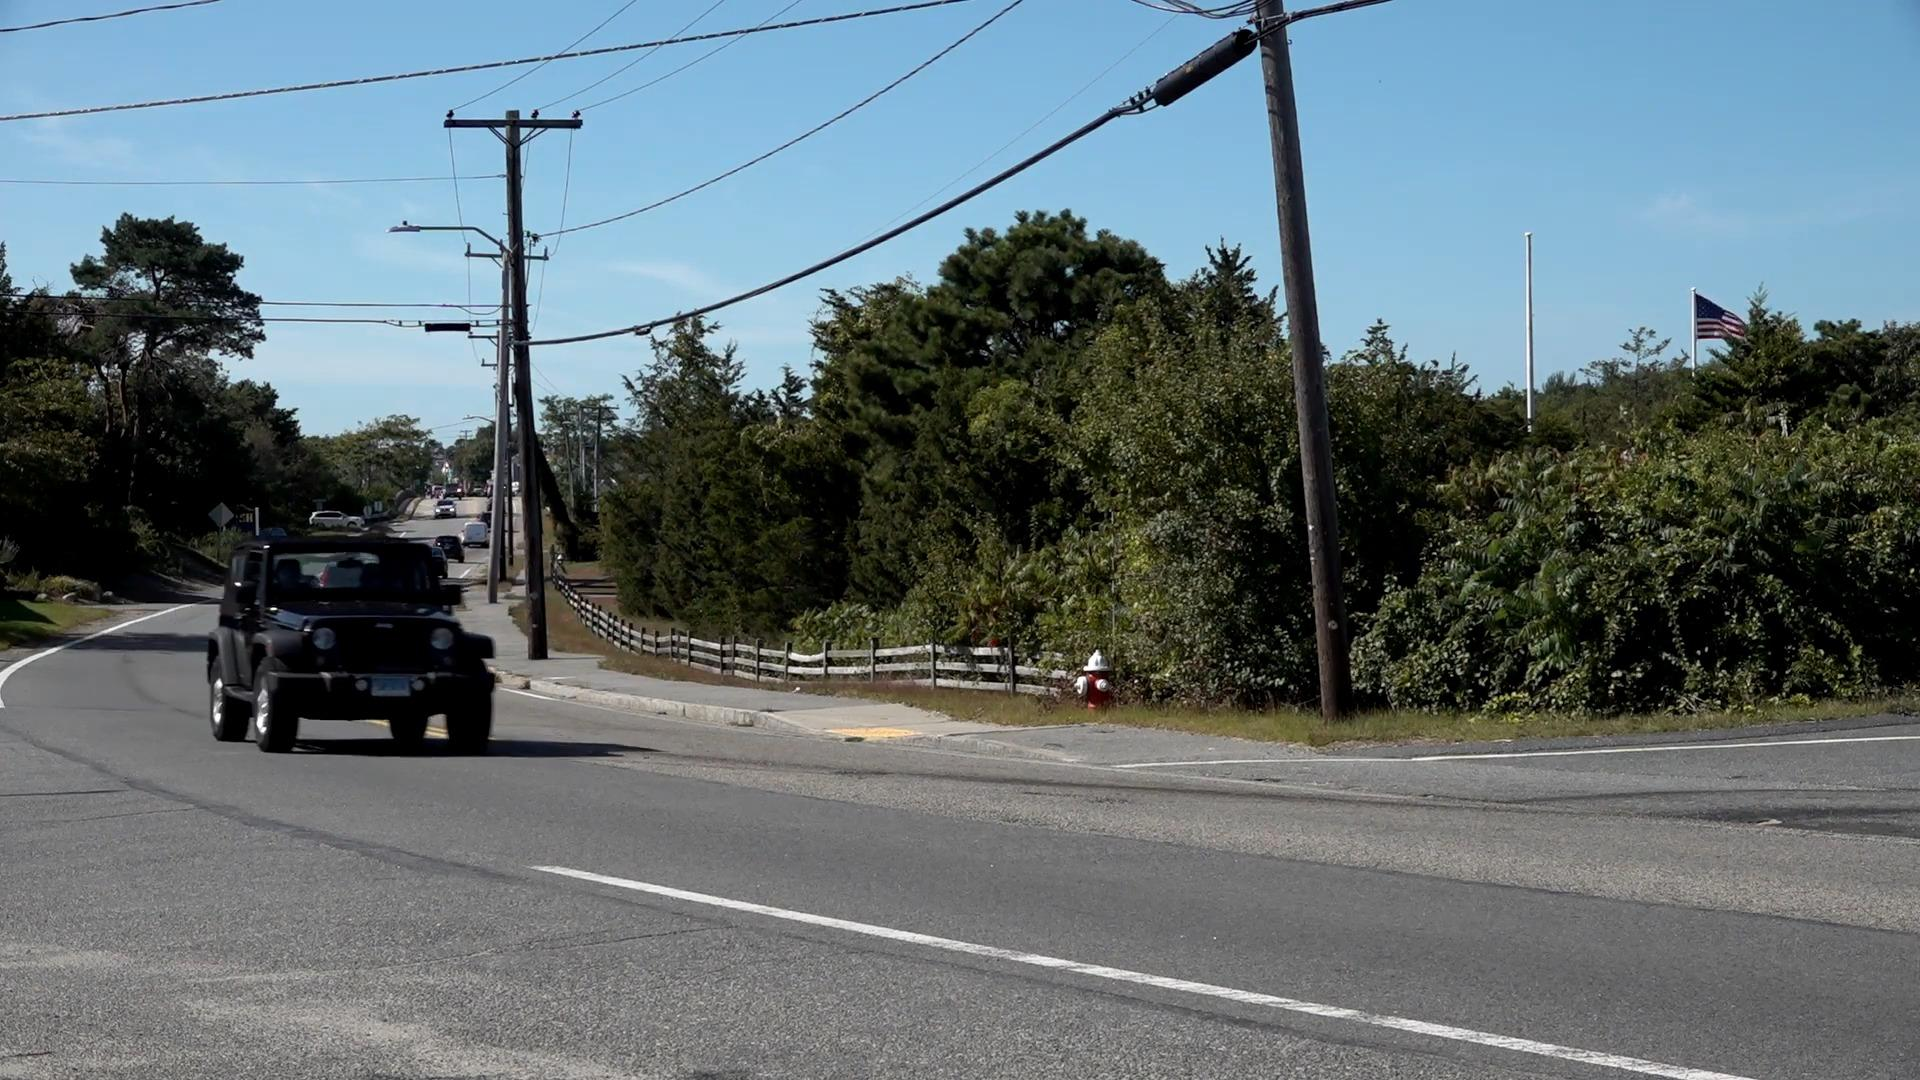suv: (204, 538, 495, 745)
